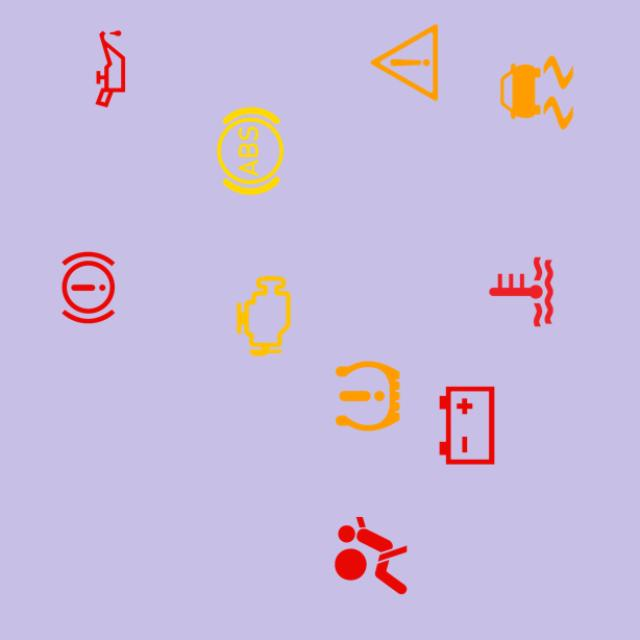Anti Lock Braking System: (202, 103, 298, 199)
Braking System Issue: (40, 240, 136, 336)
Charging System Issue: (419, 378, 515, 473)
Check Engine: (216, 268, 312, 364)
Electronic Stability Problem -ESP-: (489, 45, 585, 141)
Engine Overheating Warning Light: (473, 244, 569, 340)
Low Engine Oil Warning Light: (63, 21, 158, 117)
Low Tire Pressure Warning Light: (320, 348, 416, 444)
Master warning light: (357, 15, 452, 110)
SRS-Airbag: (323, 508, 419, 604)
